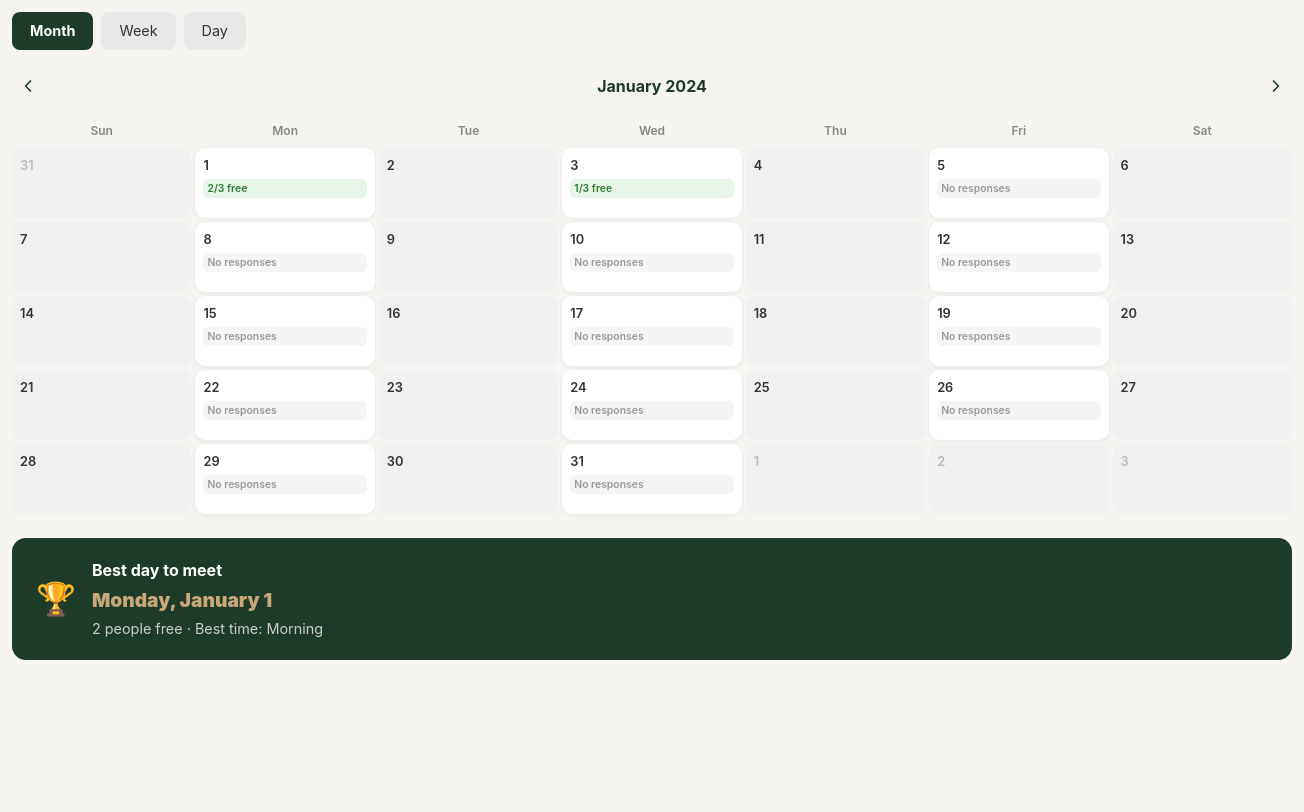
CalendarView › switches to week view when Week button is clicked
This screenshot has width=1304, height=812.
What coordinates should you click on to do the following:
click the button "Week"
I would click on:
 (139, 31)
Its box is [102, 12, 176, 50].
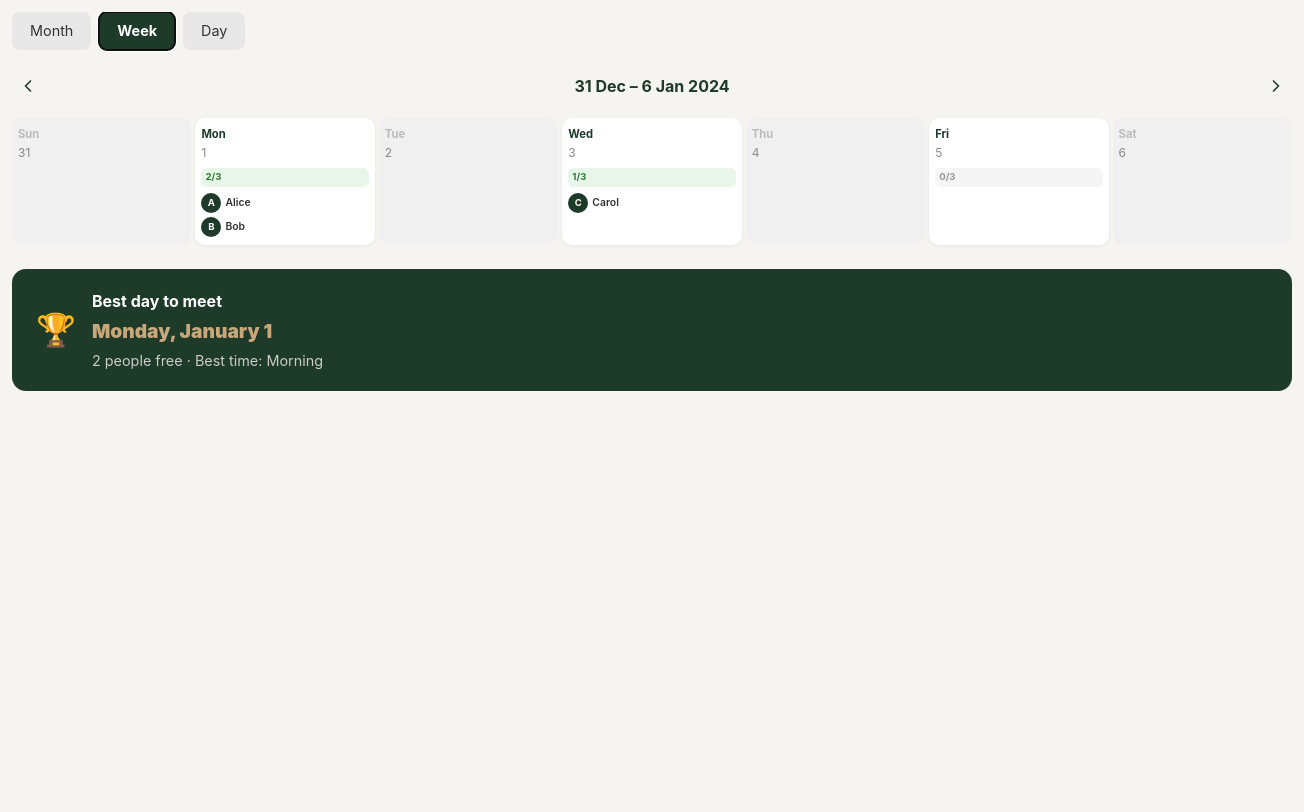
Check: the heading "31 Dec – 6 Jan 2024" is shown, box [574, 74, 730, 98]
